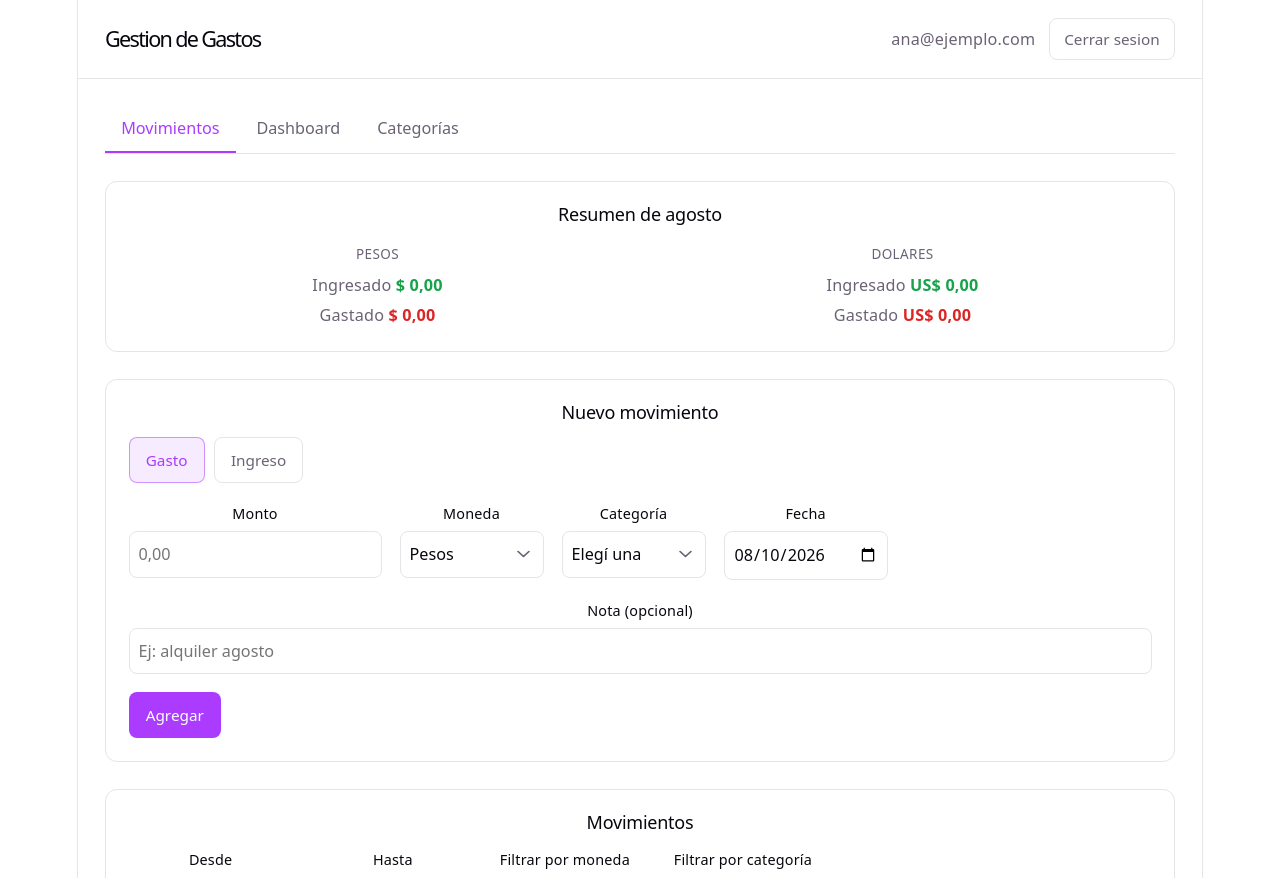
Test: ABM de categorías (RF-07 a RF-09) › AC-11: solo las categorías propias se pueden renombrar o eliminar
Click the tab "Categorías".
click(418, 130)  # box x1=361 y1=106 x2=475 y2=153
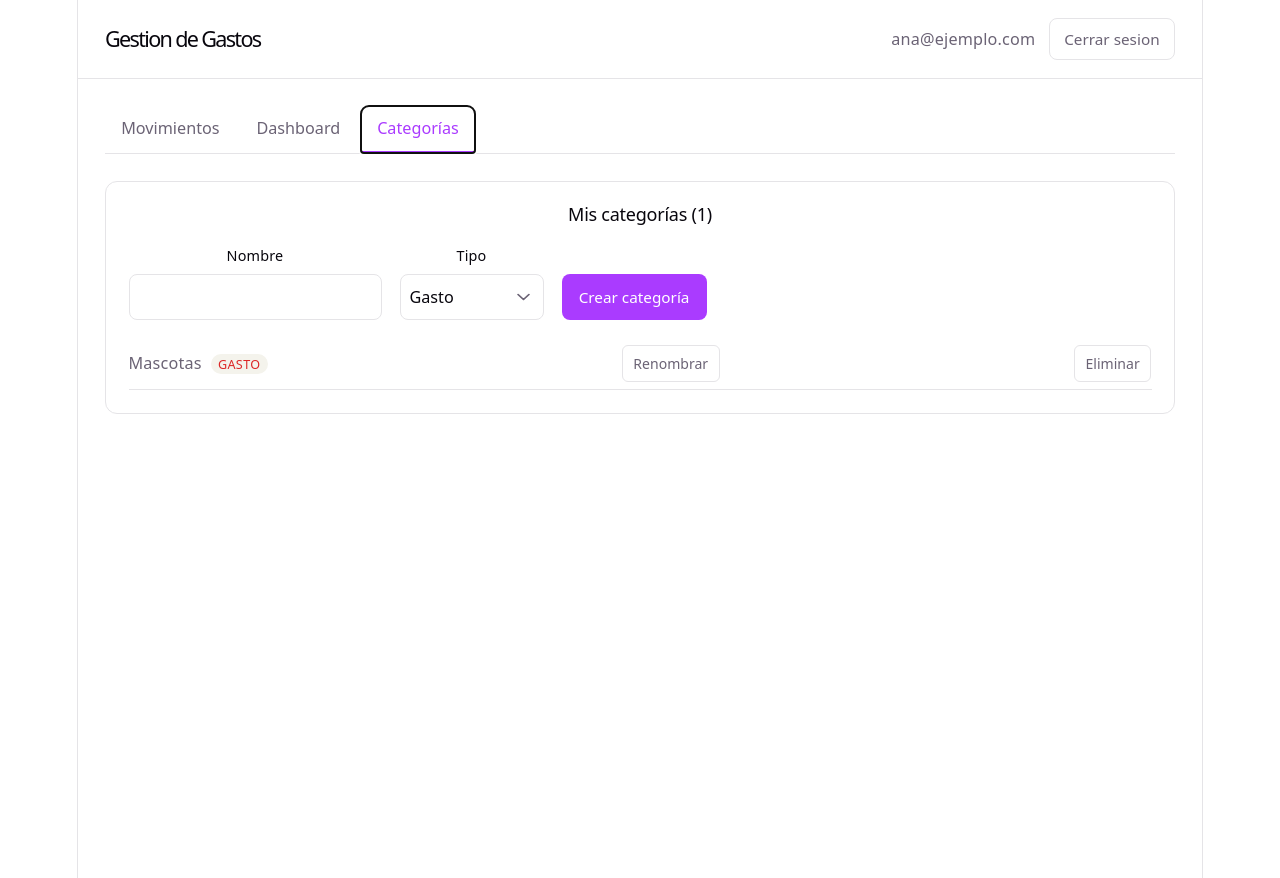
Result: the heading "Mis categorías (1)" is shown at x1=568 y1=202 x2=712 y2=226
Result: the number of list items is 1 at x1=128 y1=338 x2=1152 y2=390
Result: the button "Renombrar" is shown at x1=622 y1=345 x2=720 y2=382
